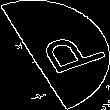P_SW: (14, 28, 96, 82)
